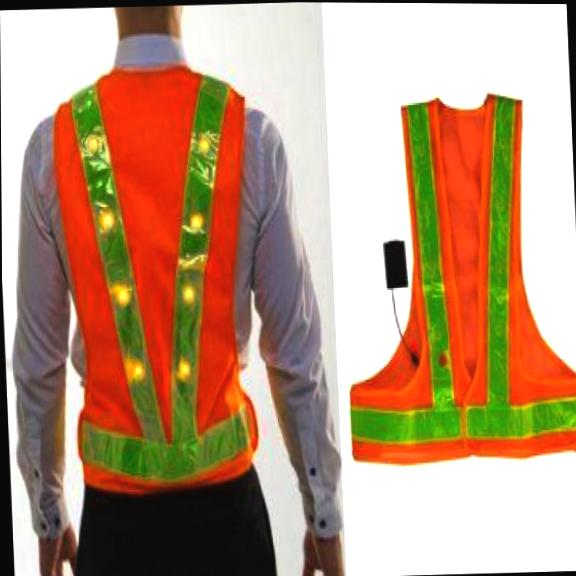safety_vest: (49, 63, 263, 496), (336, 94, 576, 468)
